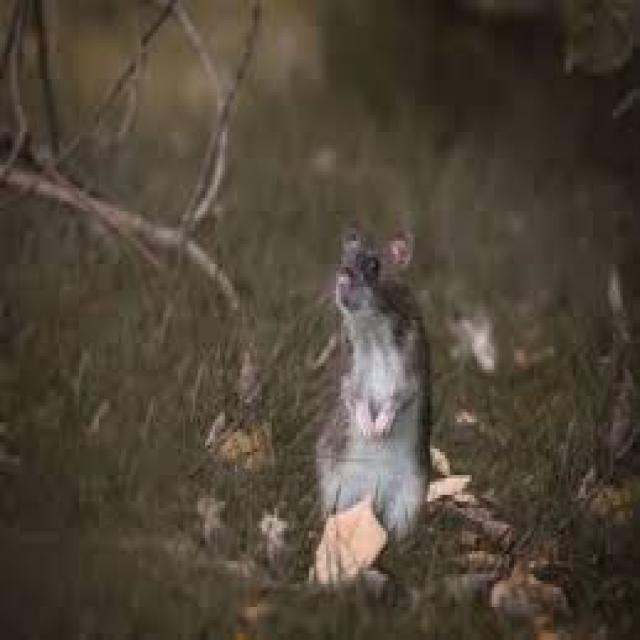Rat: (289, 188, 466, 544)
